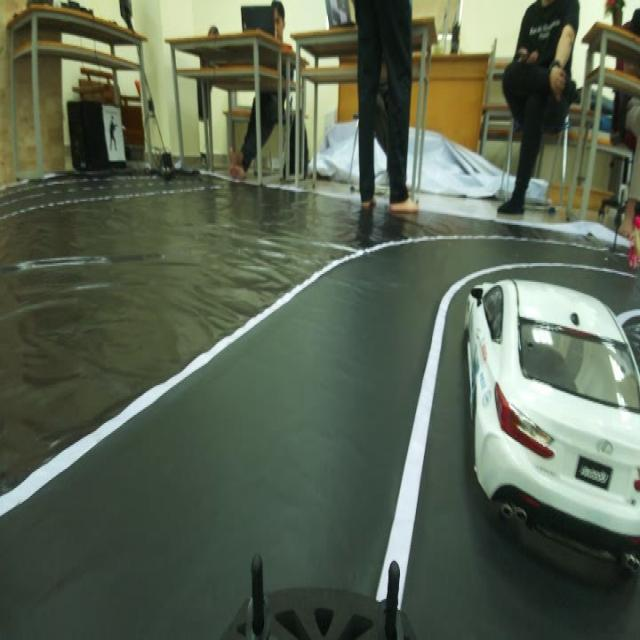car: (449, 228, 640, 521)
